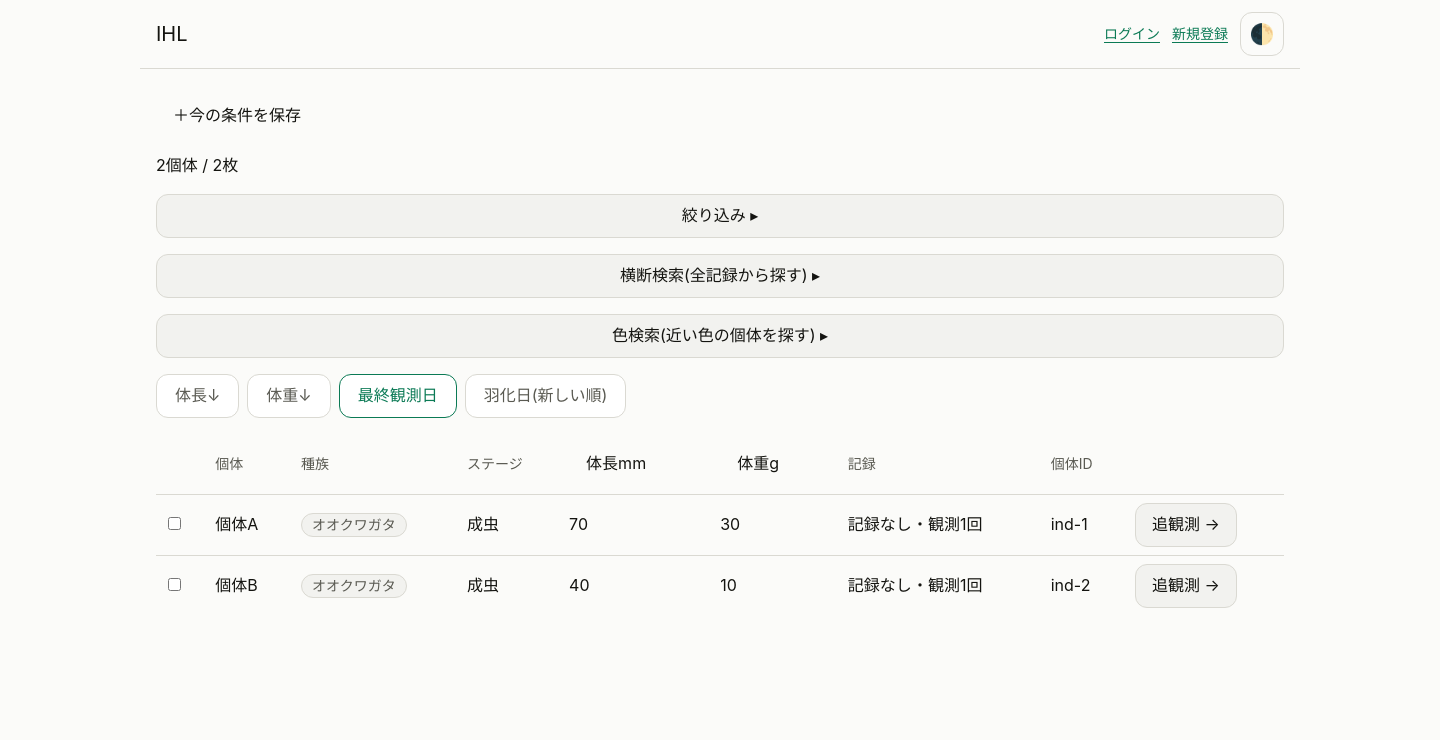
Test: T2: 横断検索UI導線(GET /api/v1/search) › 打ち切りありの応答を正直に表示する
The image size is (1440, 740).
expect the text "2個体 / 2枚" is shown: met, box [156,155,238,175]
Click the button "横断検索(全記録から探す) ▸" at point(720, 276), box [156,254,1284,298]
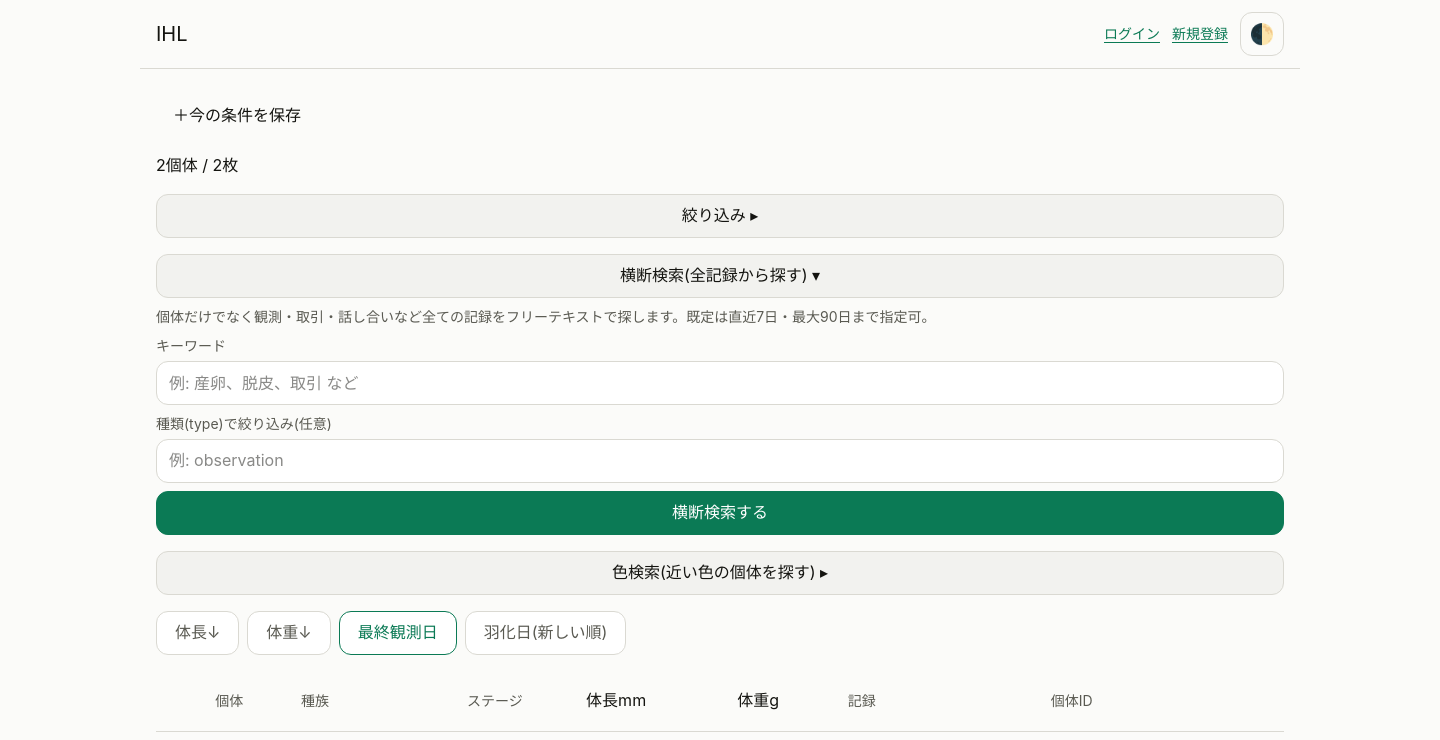
Type "産卵" into the field labelled "キーワード" at point(720, 383), box [156,361,1284,405]
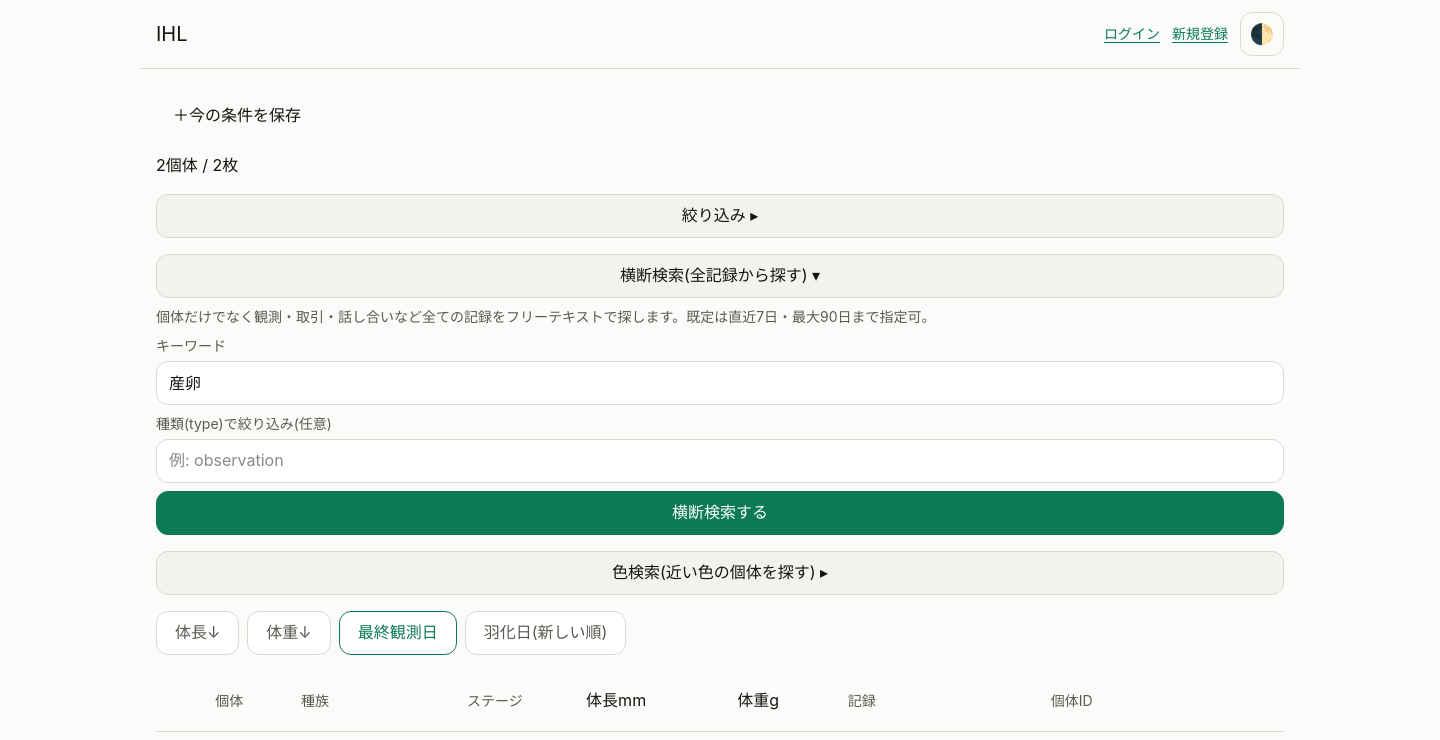
Click the button "横断検索する" at point(720, 513), box [156,491,1284,535]
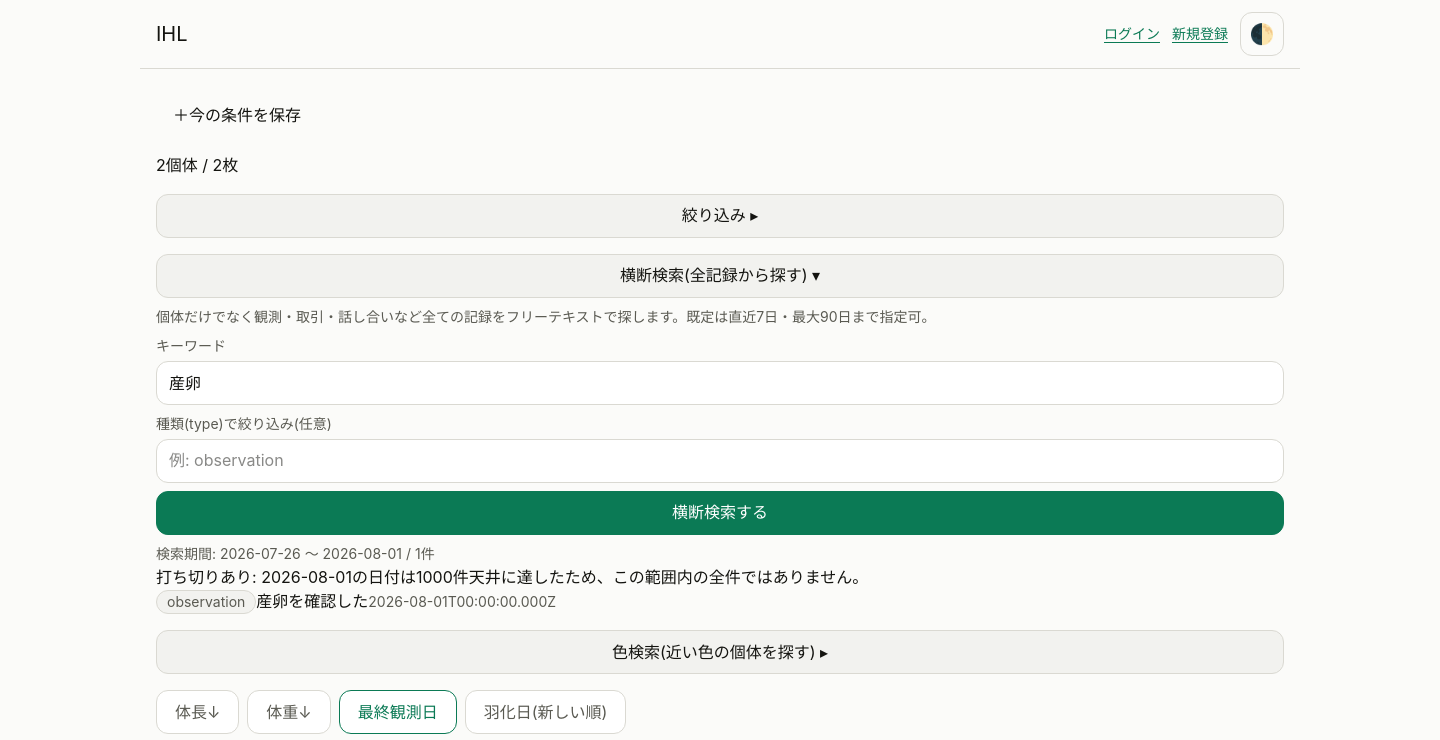
expect the text "産卵を確認した" is shown: met, box [256,591,368,611]
expect the text "打ち切りあり: 2026-08-01の日付は1000件天井に達したため、この範囲内の全件ではありません。" is shown: met, box [156,566,868,586]
